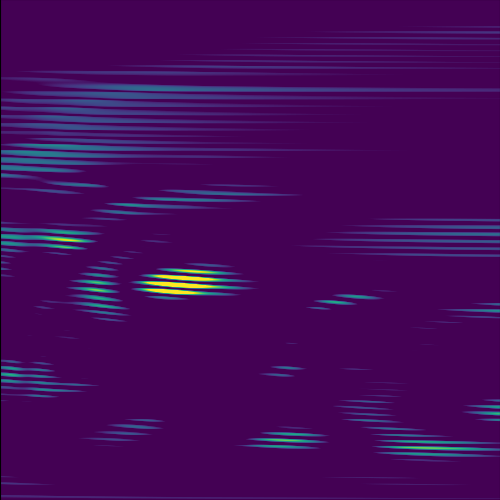semblance: (132, 262, 252, 306)
